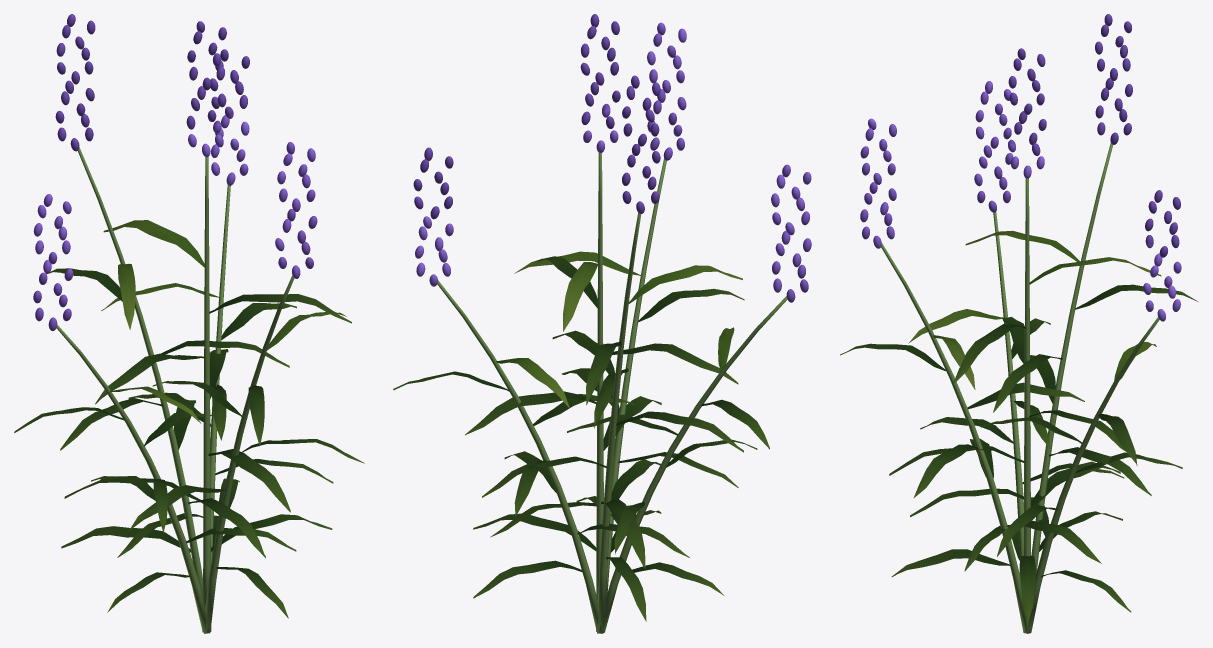
Rendered from lavender-08-lod.glb.
3 renders of one model, left to right at view 1: azimuth 30°, elevation 25°; view 2: azimuth 150°, elevation 25°; view 3: azimuth 270°, elevation 25°, orthographic. The views are drawn at different scales.
Parts seen in each view (by area): view 1: lavender_stage_08_leaf_veins.015, lavender_stage_08_stem_fibres.015, lavender_stage_08_lavender_petal.015, lavender_stage_08_young_leaf.015; view 2: lavender_stage_08_leaf_veins.015, lavender_stage_08_stem_fibres.015, lavender_stage_08_lavender_petal.015, lavender_stage_08_young_leaf.015; view 3: lavender_stage_08_leaf_veins.015, lavender_stage_08_stem_fibres.015, lavender_stage_08_lavender_petal.015, lavender_stage_08_young_leaf.015.
Part boxes in pixels (x1=…): lavender_stage_08_leaf_veins.015: x1=14, y1=268, x2=364, y2=618; lavender_stage_08_stem_fibres.015: x1=56, y1=147, x2=294, y2=633; lavender_stage_08_lavender_petal.015: x1=33, y1=14, x2=317, y2=330; lavender_stage_08_young_leaf.015: x1=101, y1=220, x2=346, y2=423; lavender_stage_08_leaf_veins.015: x1=393, y1=256, x2=769, y2=621; lavender_stage_08_stem_fibres.015: x1=437, y1=153, x2=787, y2=633; lavender_stage_08_lavender_petal.015: x1=413, y1=14, x2=811, y2=302; lavender_stage_08_young_leaf.015: x1=496, y1=251, x2=742, y2=408; lavender_stage_08_leaf_veins.015: x1=840, y1=284, x2=1198, y2=622; lavender_stage_08_stem_fibres.015: x1=881, y1=142, x2=1159, y2=633; lavender_stage_08_lavender_petal.015: x1=860, y1=14, x2=1181, y2=321; lavender_stage_08_young_leaf.015: x1=908, y1=230, x2=1161, y2=389.
Bounding box in the file's own units: 0.3475 × 0.5985 × 0.3361.
4 materials, 3 textured.
